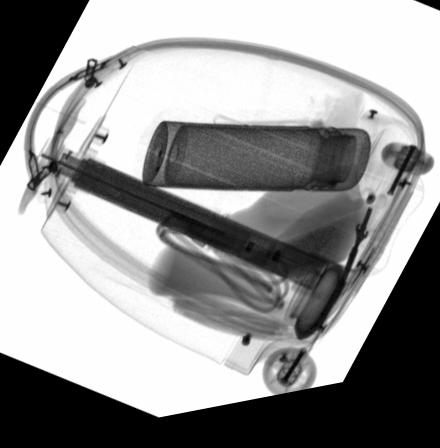Scissors: (333, 199, 390, 310)
